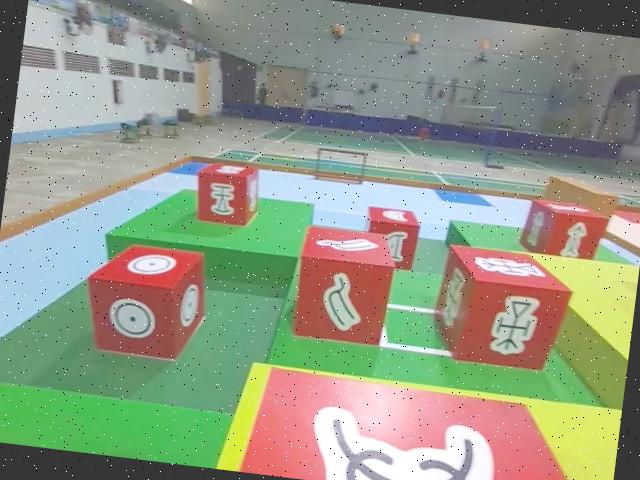R2 Real: (237, 357, 600, 480), (426, 239, 578, 374), (75, 232, 216, 367), (289, 220, 401, 349), (517, 193, 610, 262), (189, 155, 264, 231), (359, 201, 424, 273)
